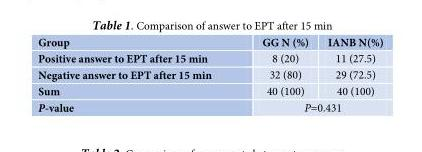table: (37, 37, 382, 113)
table column: (37, 37, 236, 113), (236, 37, 317, 113), (317, 37, 382, 113)
table column header: (37, 37, 382, 50)
table row: (37, 66, 382, 83), (37, 50, 382, 66), (37, 83, 382, 99), (37, 99, 382, 113), (37, 37, 382, 50)
table spanning cell: (236, 99, 382, 113)
